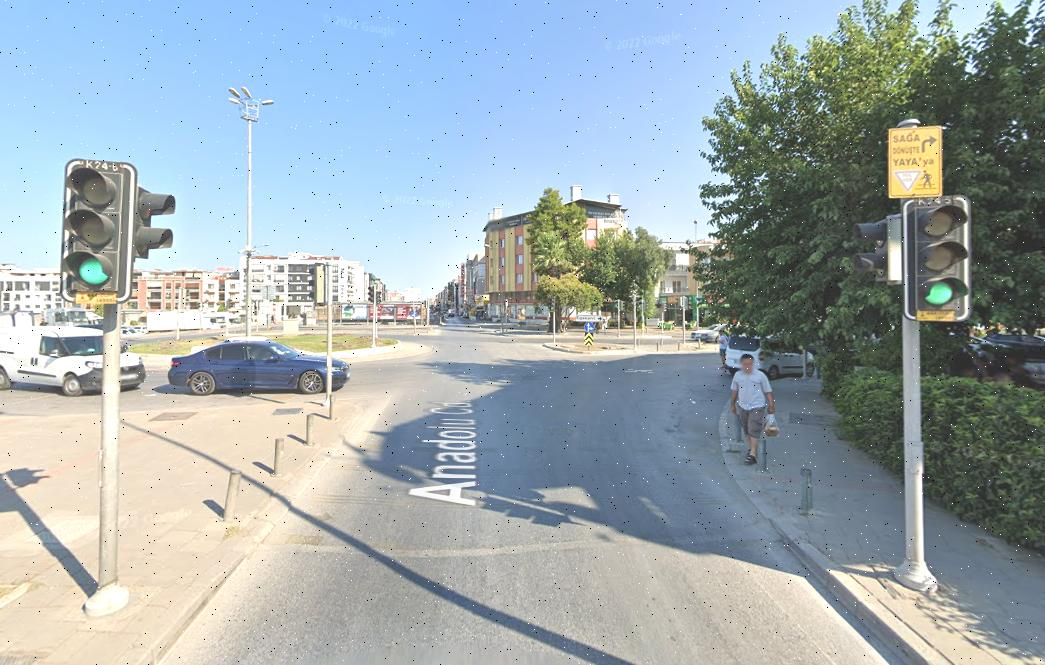greenlight: (62, 157, 125, 300), (902, 198, 970, 322)
